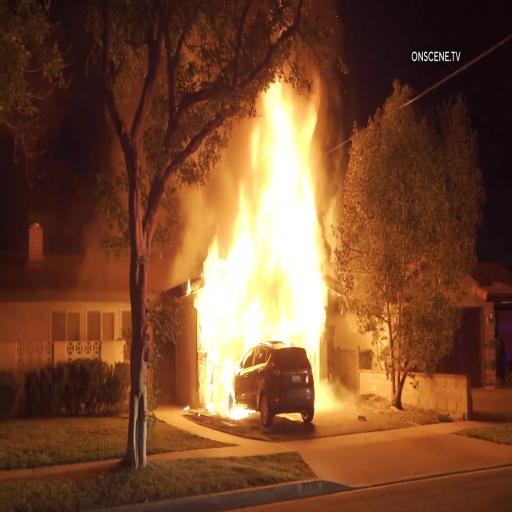fire: (238, 72, 320, 342), (203, 220, 322, 346), (193, 235, 235, 412)
smoke: (190, 98, 231, 216), (150, 176, 192, 282), (89, 210, 130, 288)
